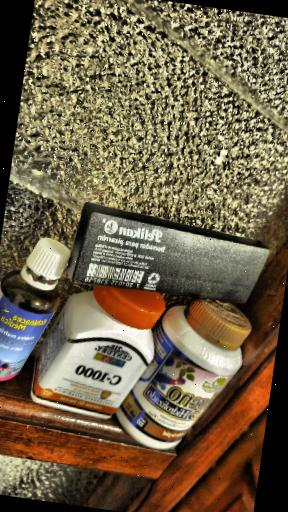borrador: (68, 202, 269, 303)
